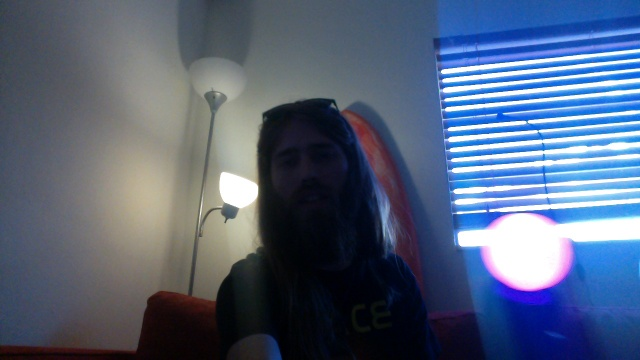wand: (482, 212, 570, 291)
